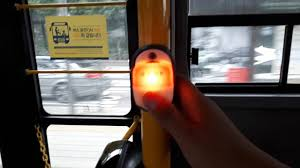bell: (130, 48, 177, 114)
